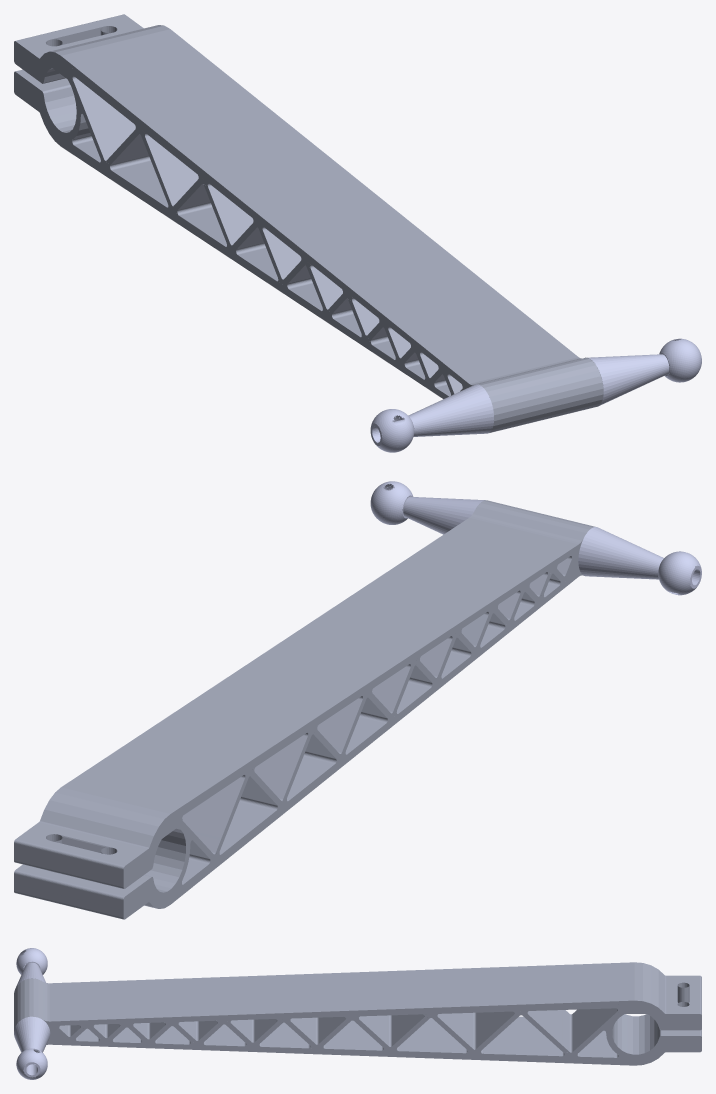
The model's file is upperArm.dae.
3 renders of one model, top to bottom at view 1: azimuth 30°, elevation 25°; view 2: azimuth 150°, elevation 25°; view 3: azimuth 270°, elevation 25°, orthographic. The views are drawn at different scales.
Visible parts, largest first — view 1: Component (×13); view 2: Component (×13); view 3: Component (×20).
Boxes of the visible parts, <box> form: Component (×13): <box>14,14,701,452</box>; Component (×13): <box>14,481,701,919</box>; Component (×20): <box>14,948,701,1079</box>.
Bounding box in the file's own units: 1.72 × 4.48 × 0.4681.
